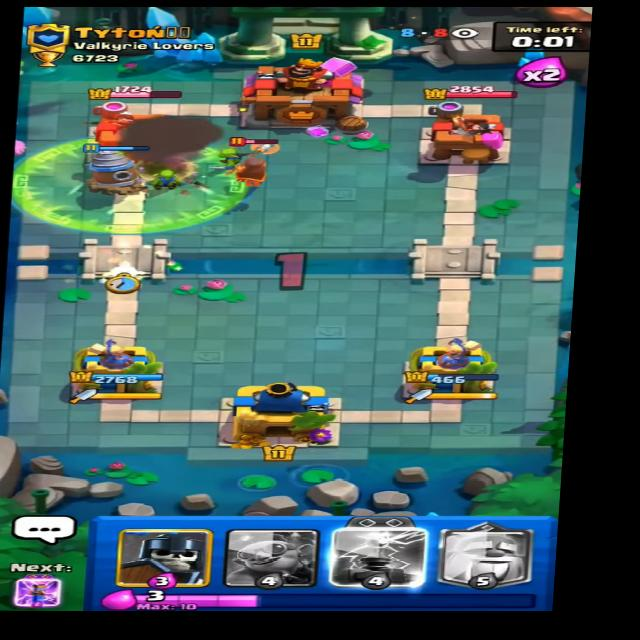night-witch: (223, 138, 281, 192)
